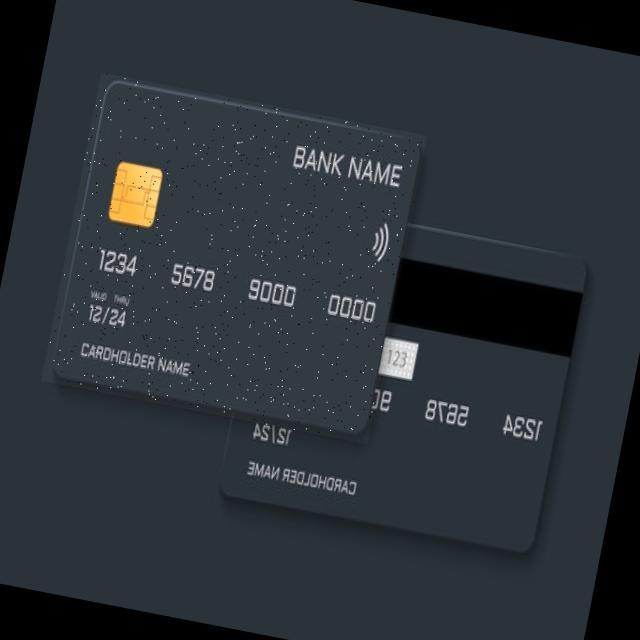payment_card: (43, 72, 426, 441), (216, 223, 587, 553)
